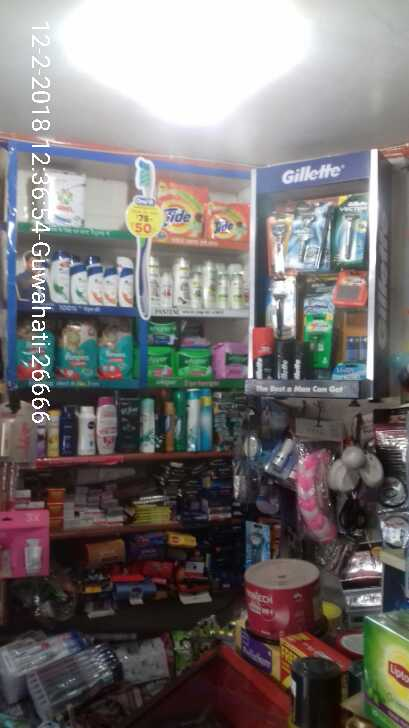gillete: (341, 196, 369, 262), (269, 206, 289, 273), (275, 273, 295, 339), (316, 205, 336, 270), (336, 269, 368, 309), (302, 273, 333, 312), (296, 204, 313, 270), (271, 439, 300, 477), (253, 328, 274, 379), (311, 317, 332, 365), (277, 342, 293, 380), (294, 346, 308, 380)
venus: (245, 525, 268, 564), (336, 362, 365, 378)
